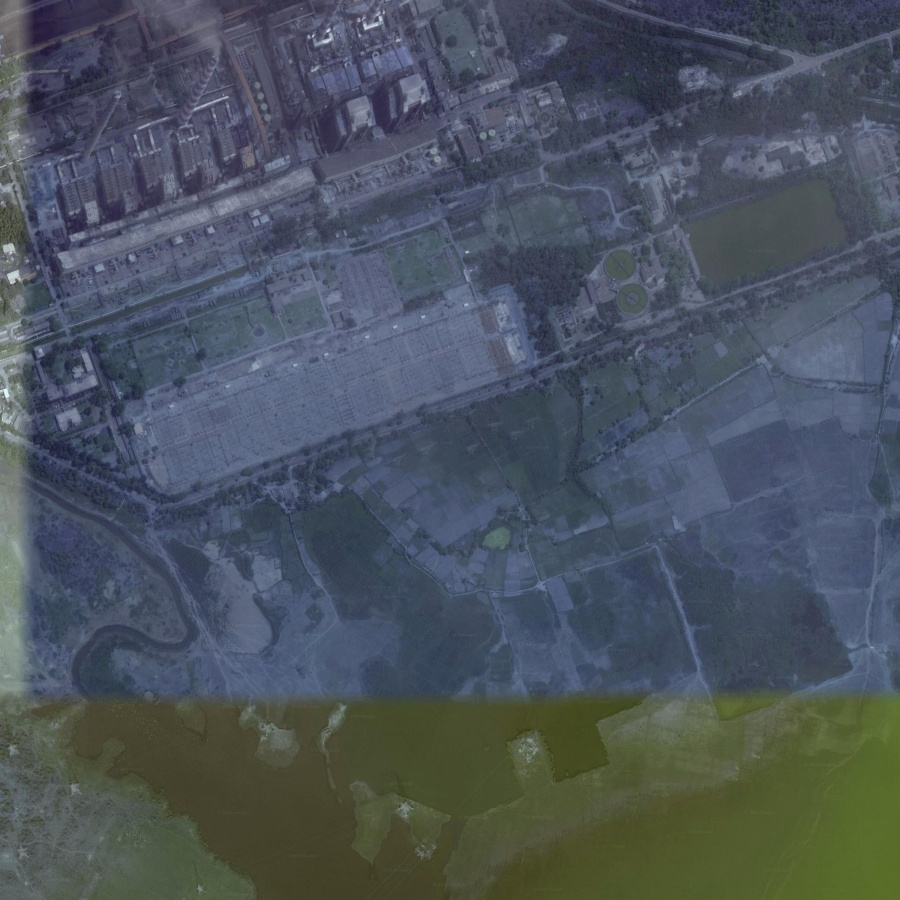PowerPlant: (674, 157, 856, 305)
